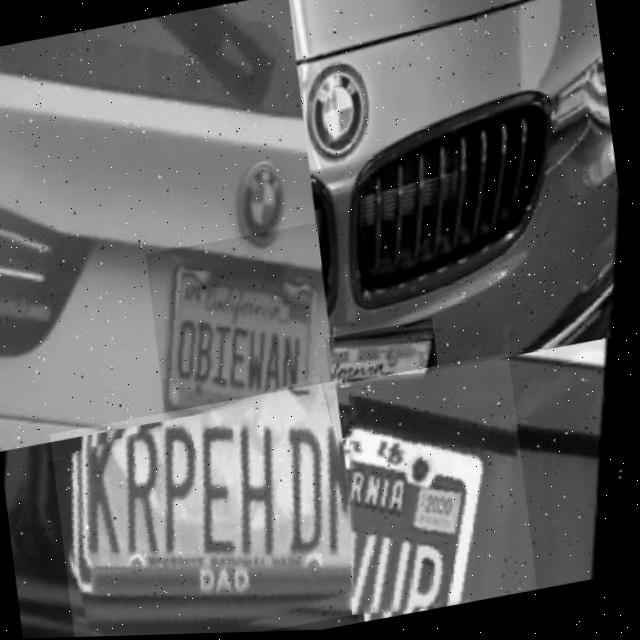LicensePlate: (47, 381, 382, 638), (327, 355, 549, 626), (143, 224, 344, 423), (334, 331, 437, 382)
